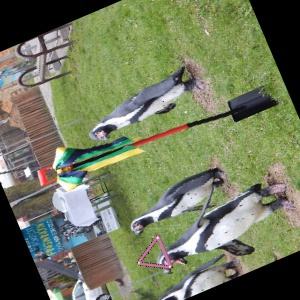triangle: (136, 232, 175, 271)
